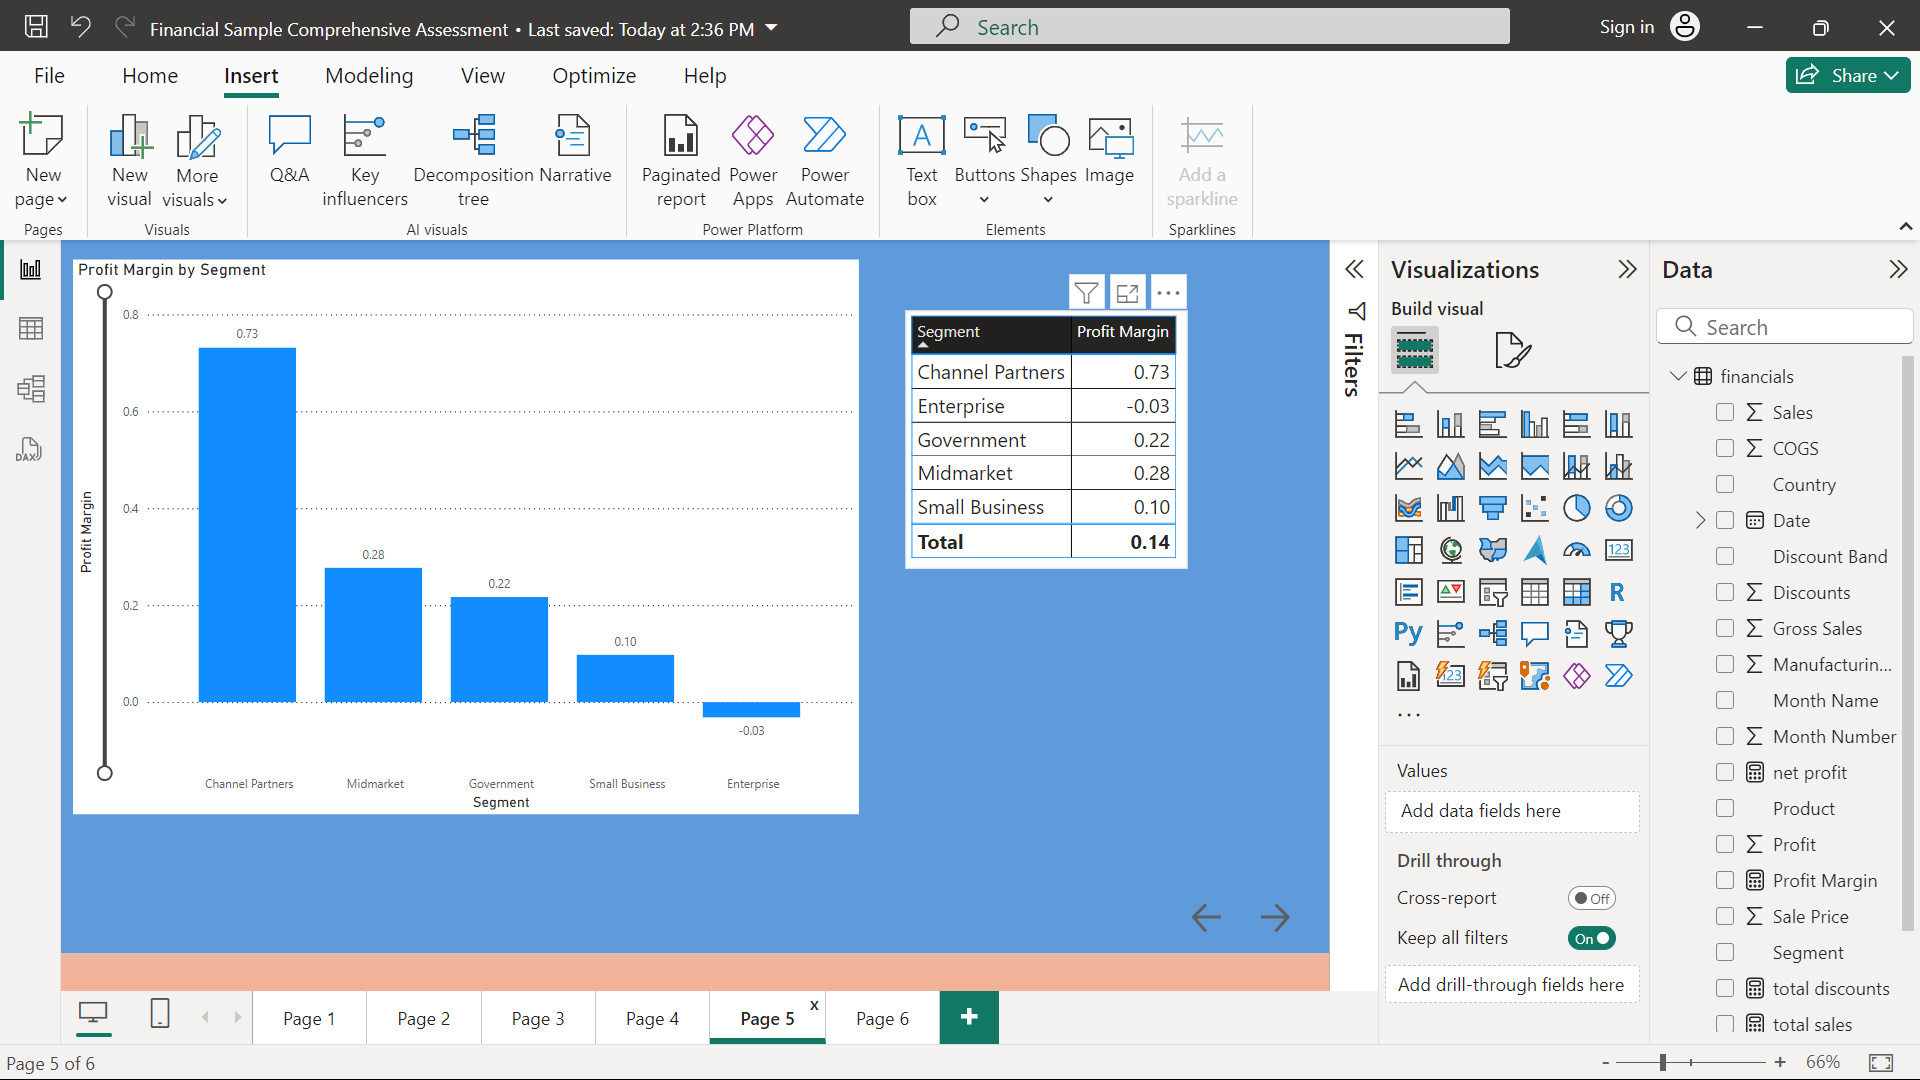

The page's visual inventory and layout, read from the dashboard file:
{"tool":"powerbi","page":{"name":"Page 5","canvas":[1280,720],"ordinal":4},"visuals":[{"type":"clusteredColumnChart","fields":{"Category":["financials.Segment"],"Y":["financials.Profit Margin"]},"box":[12.1,19.7,793.4,560.3],"z":0},{"type":"tableEx","fields":{"Values":["financials.Segment","financials.Profit Margin"]},"box":[852.5,71.2,284.7,260.4],"z":1000},{"type":"actionButton","box":[1205.3,664.7,48.5,39.4],"z":1001},{"type":"actionButton","box":[1137.2,664.7,99.9,39.4],"z":1002}]}

Visuals, with their boxes on the page's 1280x720 design canvas (x1, y1, x2, y2). These are canvas units, not pixel positions in the 1920x1080 screenshot, which may show the page scaled, cropped or inside an application window:
clusteredColumnChart - financials.Segment x financials.Profit Margin: (left=12, top=20, right=806, bottom=580)
tableEx - financials.Segment x financials.Profit Margin: (left=852, top=71, right=1137, bottom=332)
actionButton: (left=1205, top=665, right=1254, bottom=704)
actionButton: (left=1137, top=665, right=1237, bottom=704)
